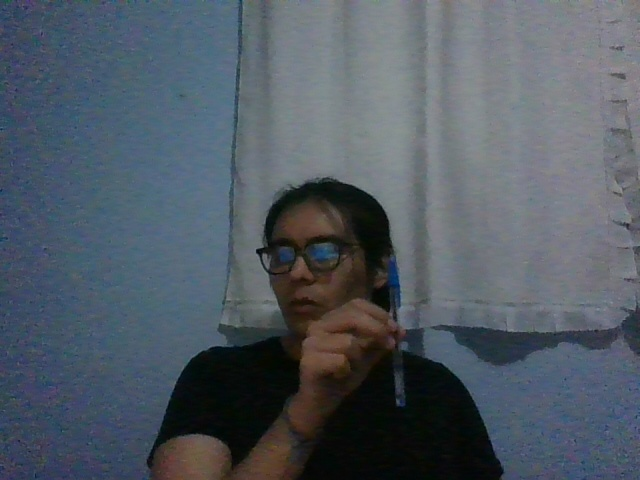pluma: (387, 253, 406, 406)
